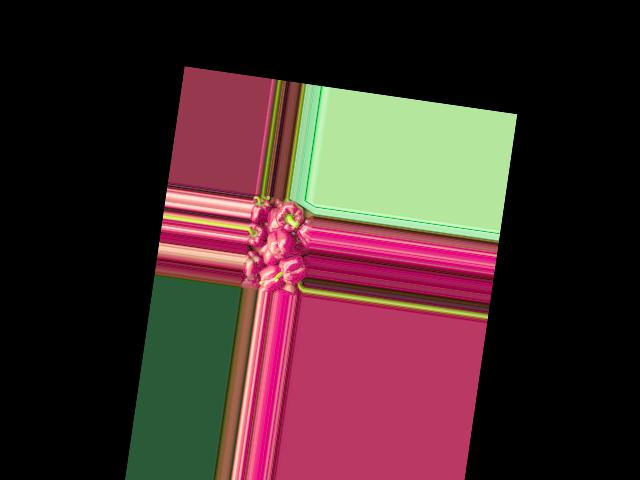bell_pepper: (249, 195, 271, 223)
